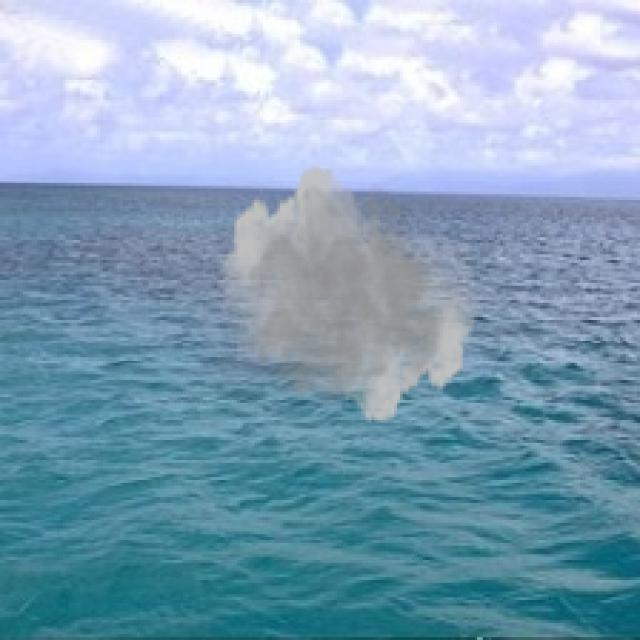smoke: (217, 163, 480, 426)
